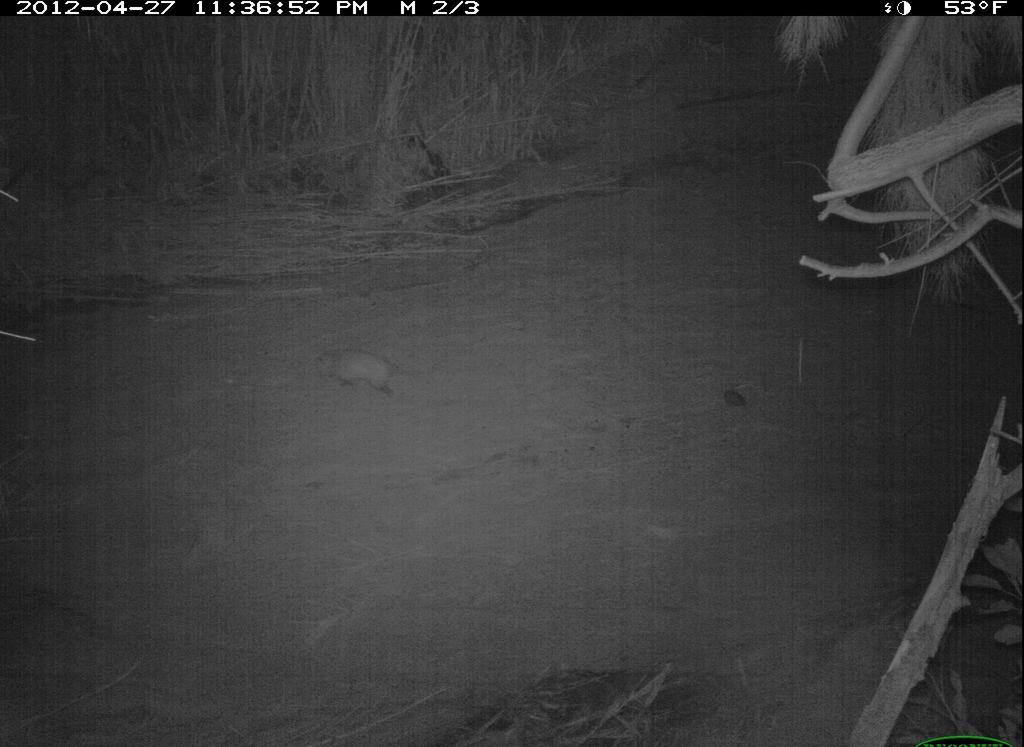opossum: (300, 336, 451, 401)
